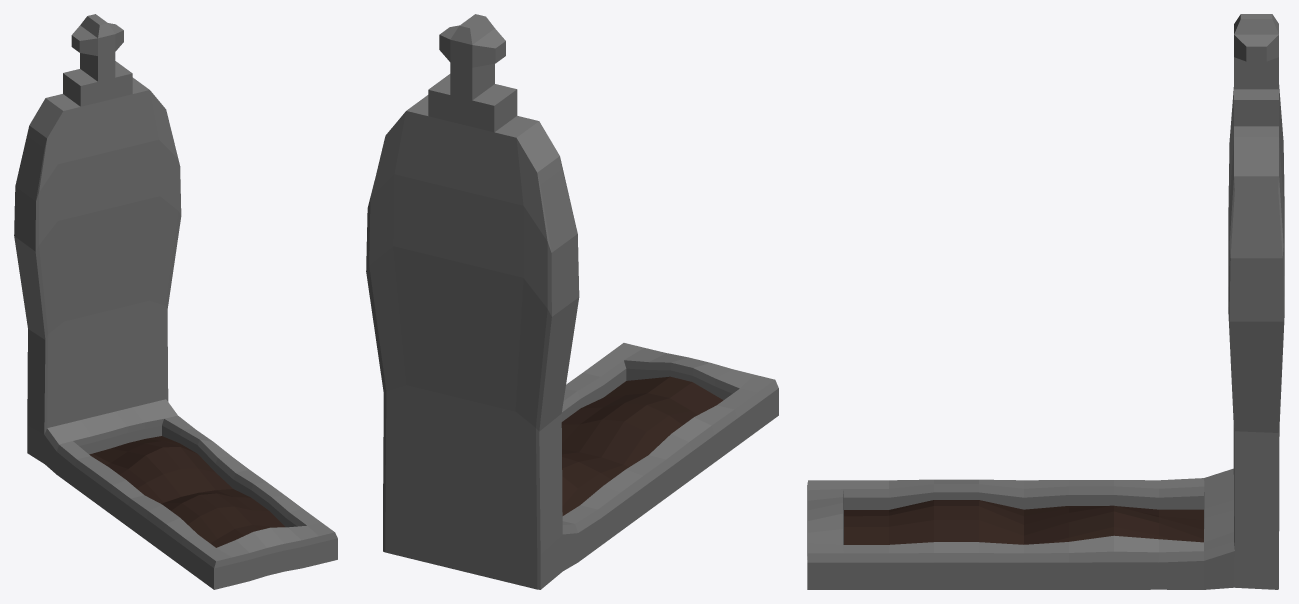
File: Tombstones.fbx
The picture shows the model from 3 angles, left to right: view 1: azimuth 30°, elevation 25°; view 2: azimuth 150°, elevation 25°; view 3: azimuth 270°, elevation 25°; orthographic projection. The views are drawn at different scales.
Parts seen in each view (by area): view 1: TombStone 2, TombStone 1; view 2: TombStone 2, TombStone 1; view 3: TombStone 1, TombStone 2.
Part boxes in pixels (left/top/right/bottom): TombStone 2: left=14, top=14, right=181, bottom=434; TombStone 1: left=27, top=77, right=337, bottom=589; TombStone 2: left=366, top=14, right=579, bottom=554; TombStone 1: left=383, top=95, right=778, bottom=589; TombStone 1: left=807, top=126, right=1278, bottom=589; TombStone 2: left=1228, top=14, right=1284, bottom=554.
Size of the model in its own units: 47.12 by 131 by 106.
